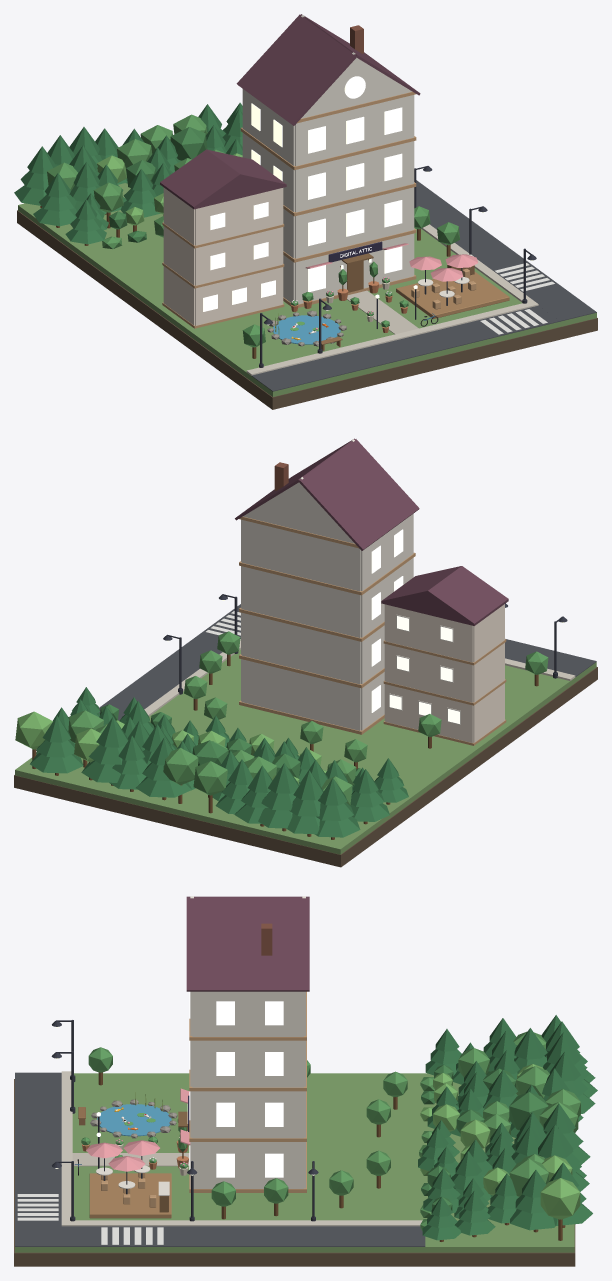
Rendered from office.glb.
3 renders of one model, top to bottom at view 1: azimuth 30°, elevation 25°; view 2: azimuth 150°, elevation 25°; view 3: azimuth 270°, elevation 25°, orthographic. The views are drawn at different scales.
Parts seen in each view (by area): view 1: island_ground, island_rim, attic_roof_left, island_road_south, island_road_east, dorm_roof, house_front_f3, house_front_f4, house_front_f2, dorm_front_f2, dorm_front_f3, dorm_front_f1 (+24 smaller); view 2: island_ground, attic_roof_left, island_forest_ground, island_forest_rim, house_wall_back_f1, house_wall_back_f3, house_wall_back_f2, house_wall_back_f4, dorm_roof, island_road_east, dorm_wall_back_f2, dorm_wall_back_f3 (+30 smaller); view 3: island_ground, attic_roof_right, island_road_east, island_road_south, island_rim, house_wall_right_f2, house_wall_right_f3, house_wall_right_f4, house_wall_right_f1, island_forest_ground, deck_floor, island_sidewalk_east (+28 smaller).
Part boxes in pixels (box(x1,y1,x2,y2)): island_ground: box(86, 228, 596, 396); island_rim: box(84, 260, 597, 409); attic_roof_left: box(236, 14, 356, 125); island_road_south: box(252, 305, 593, 391); island_road_east: box(416, 180, 596, 320); dorm_roof: box(160, 149, 286, 206); house_front_f3: box(295, 141, 413, 212); house_front_f4: box(295, 95, 413, 166); house_front_f2: box(295, 187, 413, 258); dorm_front_f2: box(195, 227, 282, 285); dorm_front_f3: box(195, 188, 282, 245); dorm_front_f1: box(195, 267, 282, 325); island_ground: box(149, 649, 596, 804); attic_roof_left: box(298, 439, 419, 550); island_forest_ground: box(15, 754, 408, 854); island_forest_rim: box(14, 775, 409, 867); house_wall_back_f1: box(241, 659, 360, 730); house_wall_back_f3: box(241, 566, 360, 637); house_wall_back_f2: box(241, 613, 360, 684); house_wall_back_f4: box(241, 520, 360, 591); dorm_roof: box(381, 566, 508, 623); island_road_east: box(99, 604, 240, 720); dorm_wall_back_f2: box(385, 644, 473, 702); dorm_wall_back_f3: box(385, 604, 473, 662); island_ground: box(15, 1073, 425, 1252); attic_roof_right: box(186, 897, 309, 991); island_road_east: box(15, 1226, 425, 1246); island_road_south: box(15, 1072, 61, 1226); island_rim: box(14, 1079, 425, 1266); house_wall_right_f2: box(192, 1091, 303, 1138); house_wall_right_f3: box(192, 1040, 303, 1087); house_wall_right_f4: box(192, 991, 303, 1036); house_wall_right_f1: box(192, 1142, 303, 1188); island_forest_ground: box(425, 1073, 574, 1252); deck_floor: box(89, 1173, 171, 1218); island_sidewalk_east: box(61, 1220, 422, 1226).
Size of the model in its own units: 23.33 by 16.75 by 31.3.
